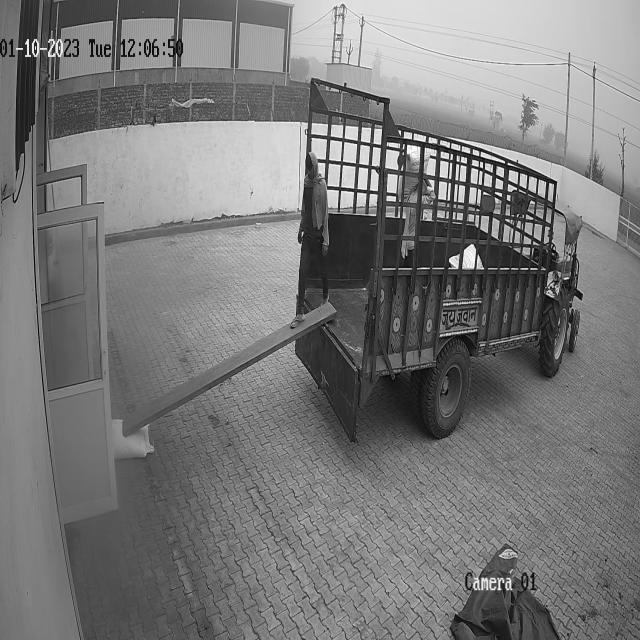sack: (110, 417, 154, 458)
